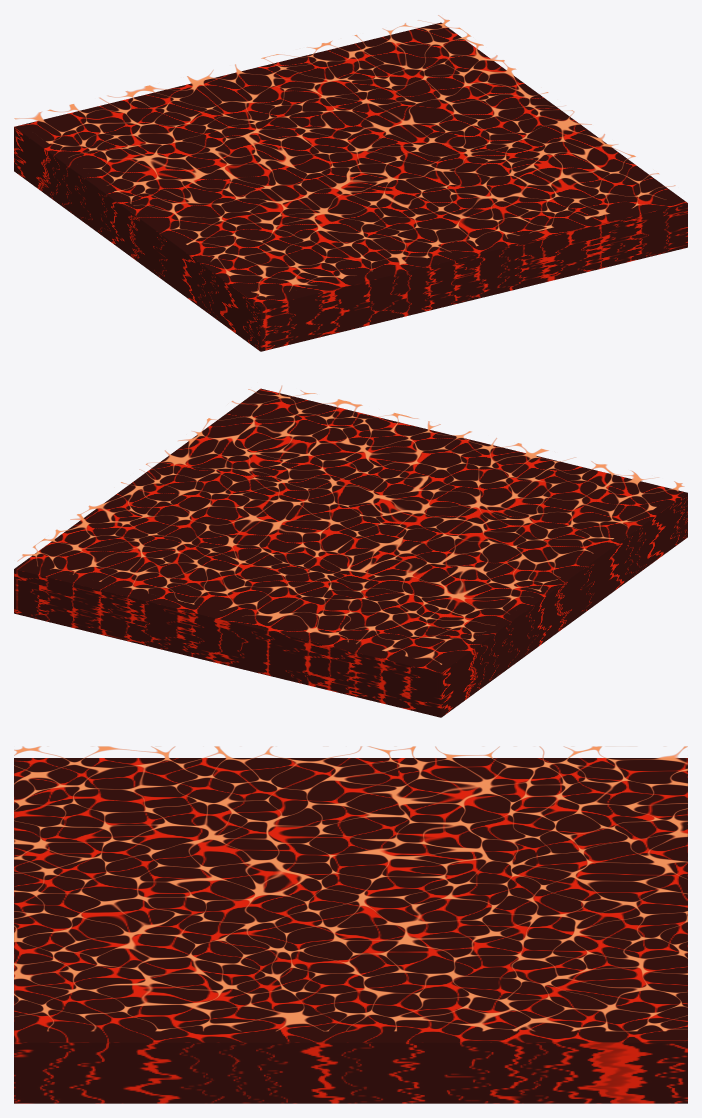
The model's file is tile0138.gltf.
3 views of the same model, one above another, from view 1: azimuth 30°, elevation 25°; view 2: azimuth 150°, elevation 25°; view 3: azimuth 270°, elevation 25° (orthographic). The views are drawn at different scales.
Parts seen in each view (by area): view 1: Plane.015, Plane.016; view 2: Plane.015, Plane.016; view 3: Plane.015, Plane.016.
Boxes of the visible parts, <box> form: Plane.015: <box>14,22,687,351</box>; Plane.016: <box>14,15,675,297</box>; Plane.015: <box>14,388,687,717</box>; Plane.016: <box>17,386,684,664</box>; Plane.015: <box>14,758,687,1103</box>; Plane.016: <box>14,746,687,1031</box>.
Size of the model in its own units: 2 by 0.2365 by 2.
Materials: 2 (2 with a texture image).
